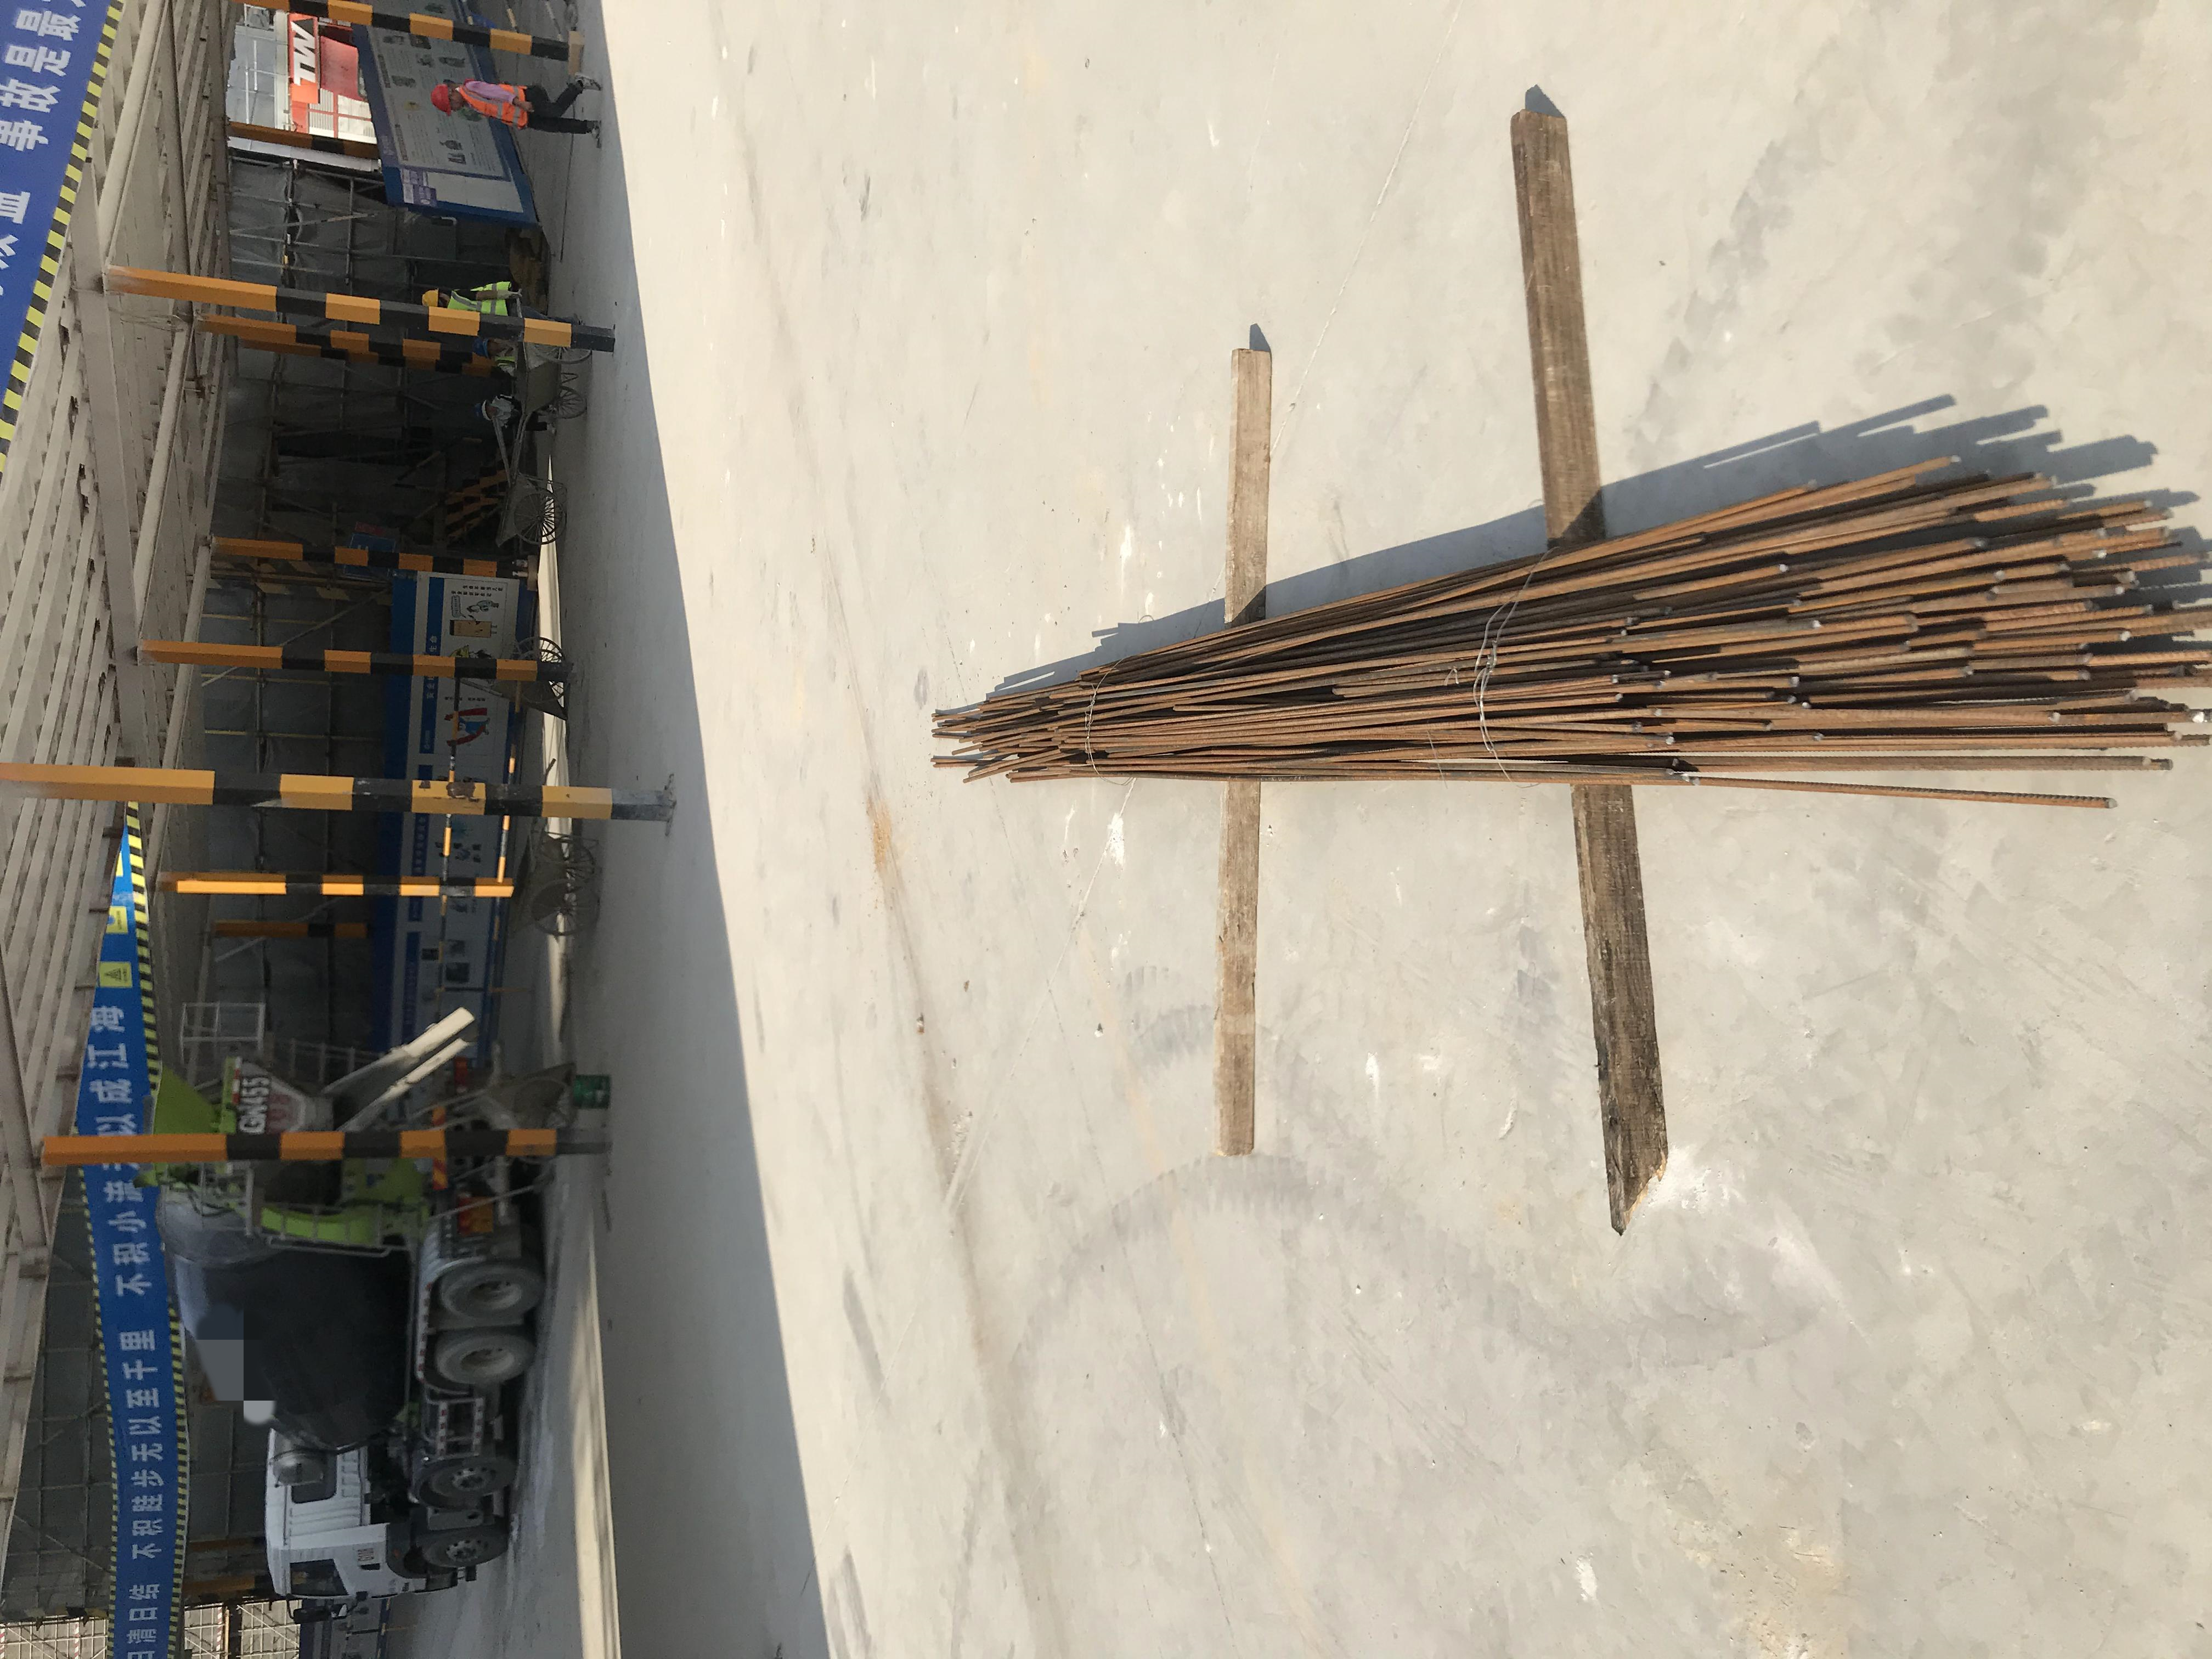helmet: (430, 83, 452, 116), (422, 289, 439, 307)
person: (430, 69, 605, 150), (420, 280, 582, 325), (472, 393, 558, 434), (472, 337, 516, 374)
vest: (461, 78, 529, 129), (451, 281, 510, 315)
